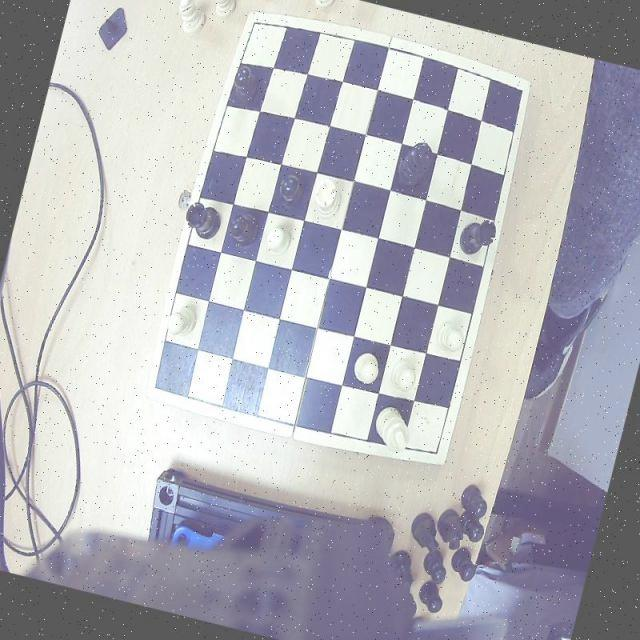chess-table-corners: (146, 370, 174, 400), (421, 439, 446, 466), (510, 78, 531, 109), (247, 10, 270, 36)
